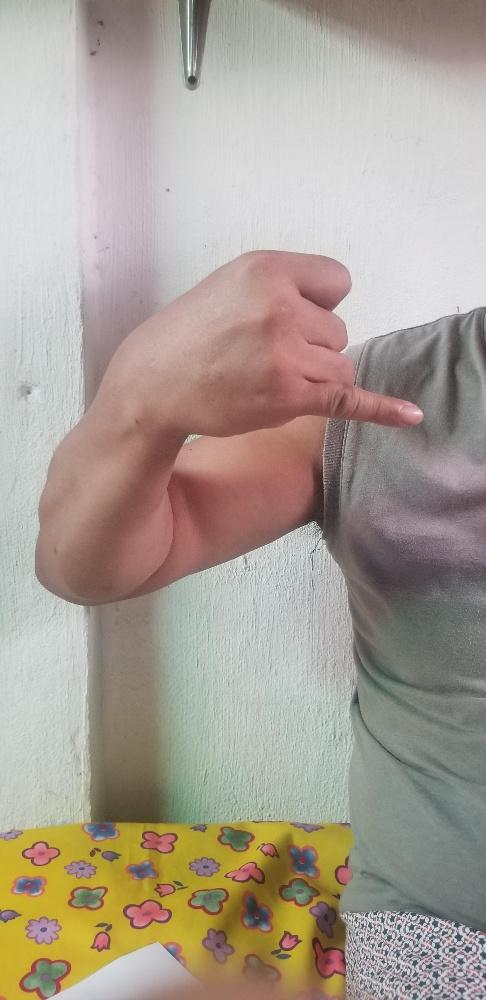j: (134, 246, 428, 433)
